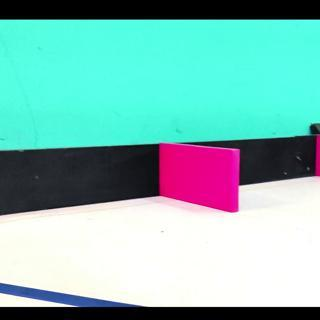xparking: (167, 151, 237, 212), (317, 140, 319, 176)
